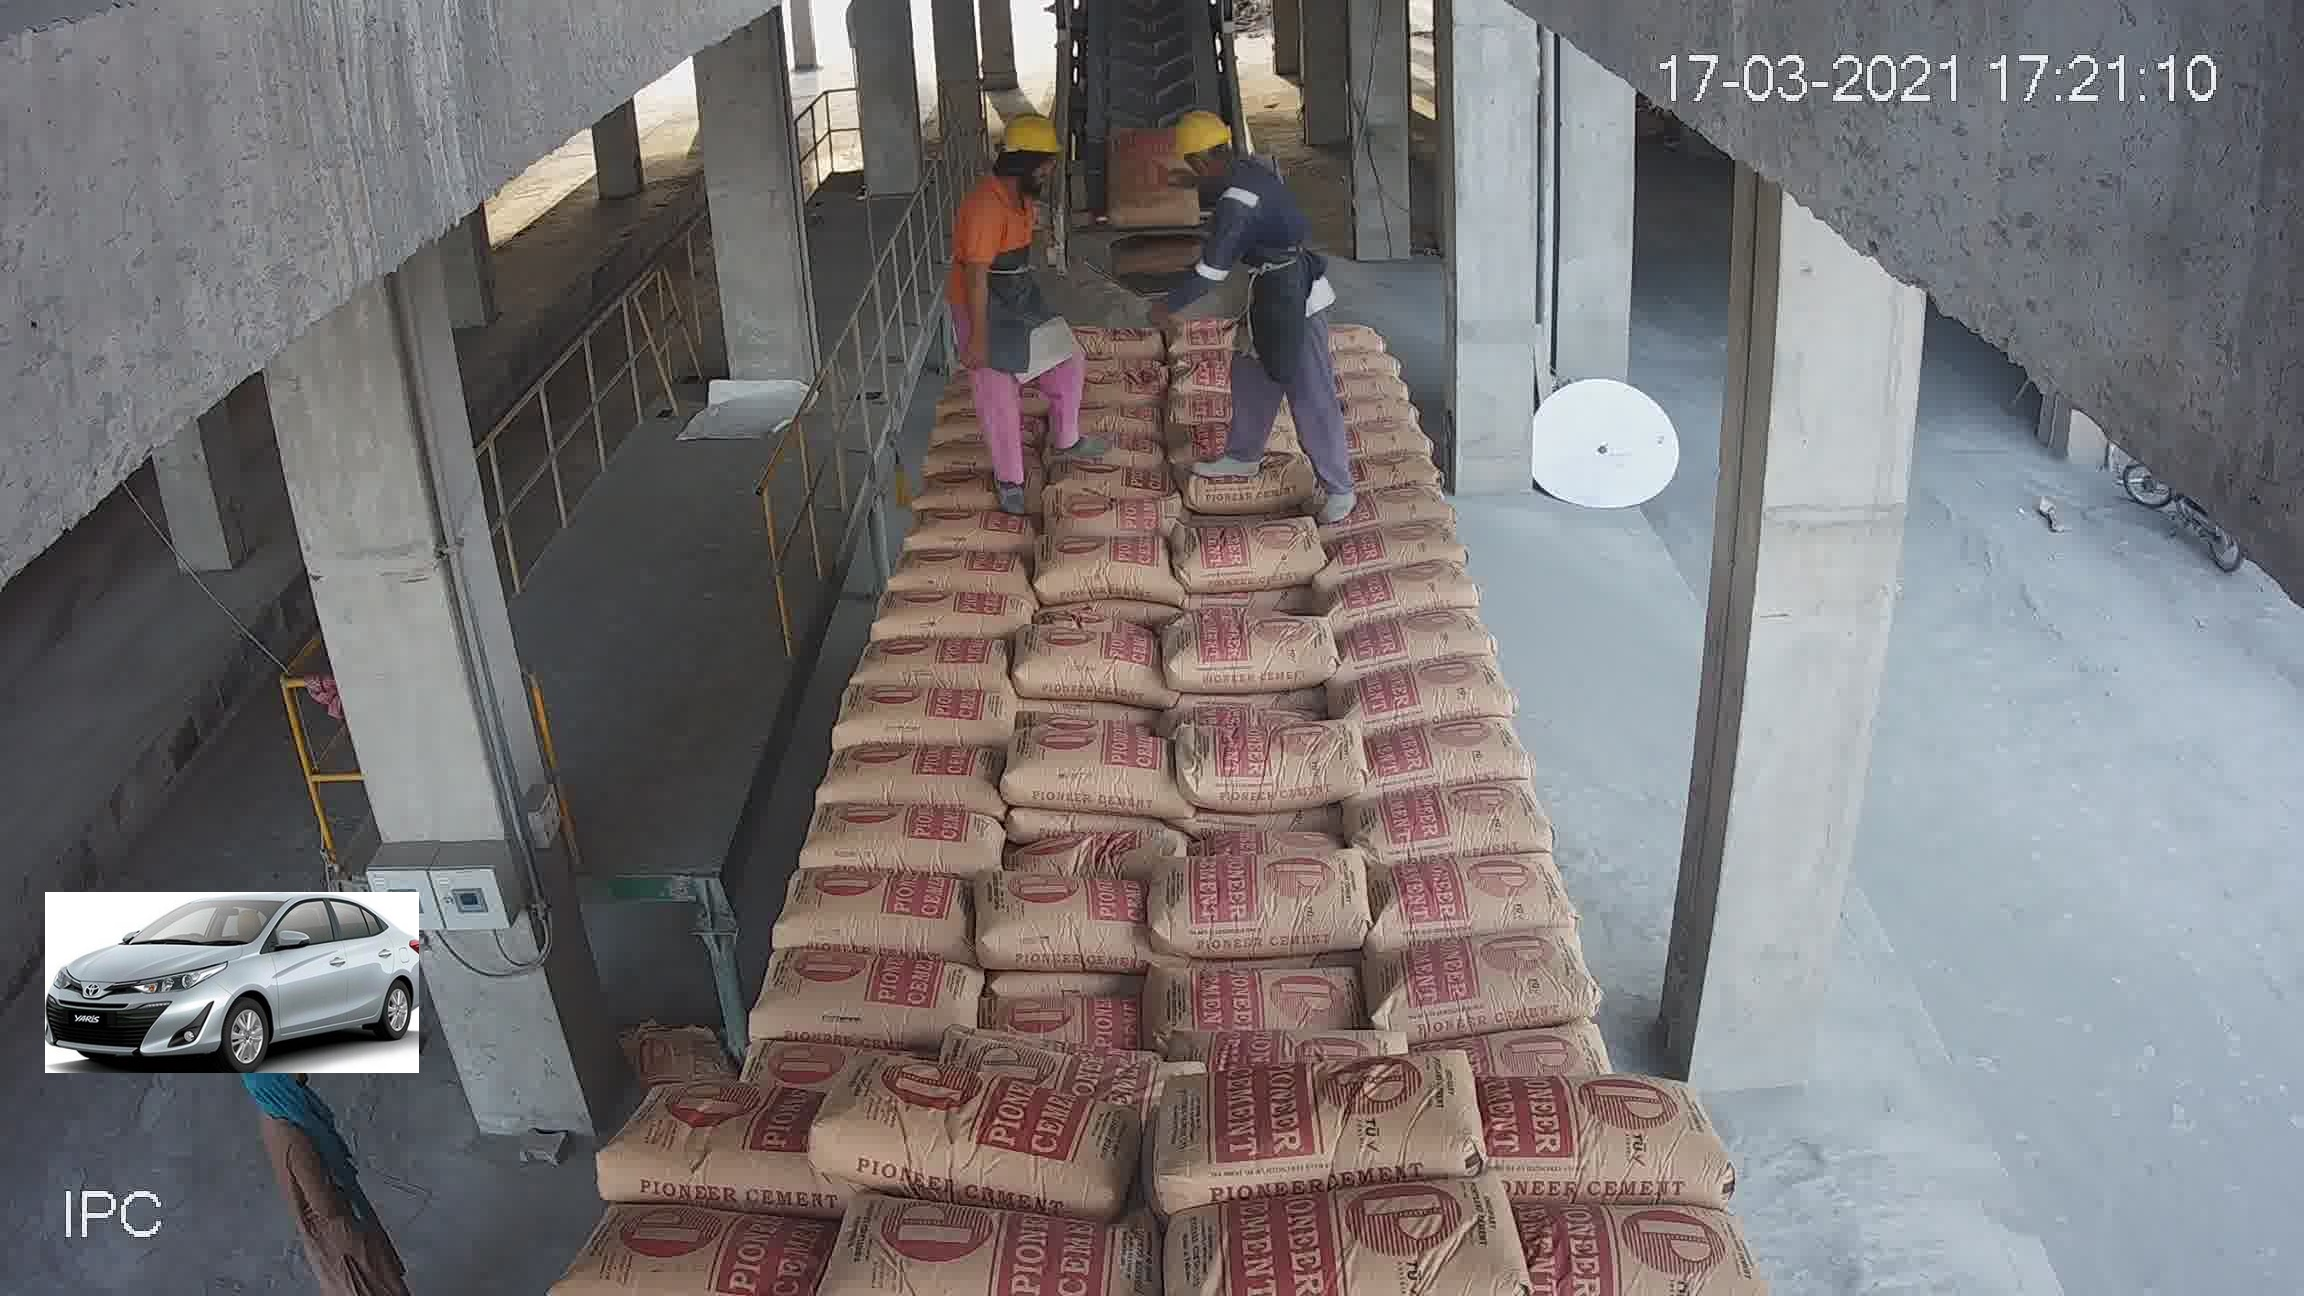bag: (1100, 454, 1245, 638), (1090, 106, 1196, 199)
bag_h: (1127, 1044, 1497, 1214), (1135, 923, 1453, 1092), (1143, 1169, 1529, 1291), (805, 1071, 1157, 1204), (1418, 1071, 1745, 1196), (1124, 831, 1442, 957), (1416, 945, 1688, 1086), (873, 940, 1146, 1073), (889, 828, 1157, 961), (1139, 728, 1400, 858), (574, 1087, 840, 1201), (1472, 1192, 1756, 1296), (813, 1203, 1138, 1293), (677, 843, 892, 976), (521, 1207, 823, 1293), (641, 957, 867, 1071), (1393, 855, 1616, 954), (878, 777, 1139, 858), (1370, 756, 1590, 847), (714, 779, 899, 880), (1359, 650, 1518, 725), (1374, 718, 1532, 790), (1361, 604, 1500, 660), (840, 628, 965, 687), (824, 687, 956, 734), (828, 725, 937, 772), (1381, 570, 1480, 612), (1369, 441, 1442, 495), (1388, 521, 1457, 570), (1355, 399, 1408, 445), (1356, 366, 1407, 400)
belt: (1014, 17, 1296, 472)
